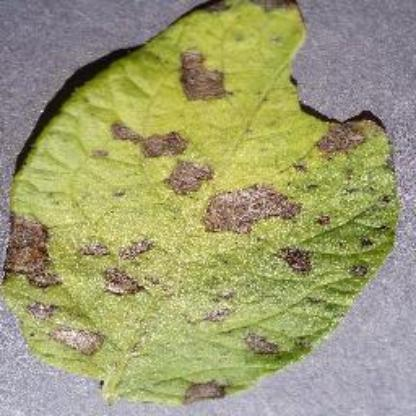Early-Blight: (0, 0, 404, 406)
